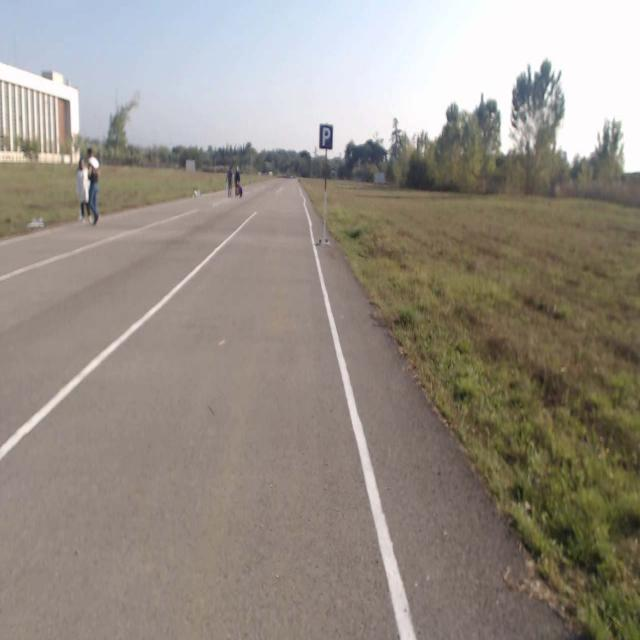park: (320, 124, 332, 150)
